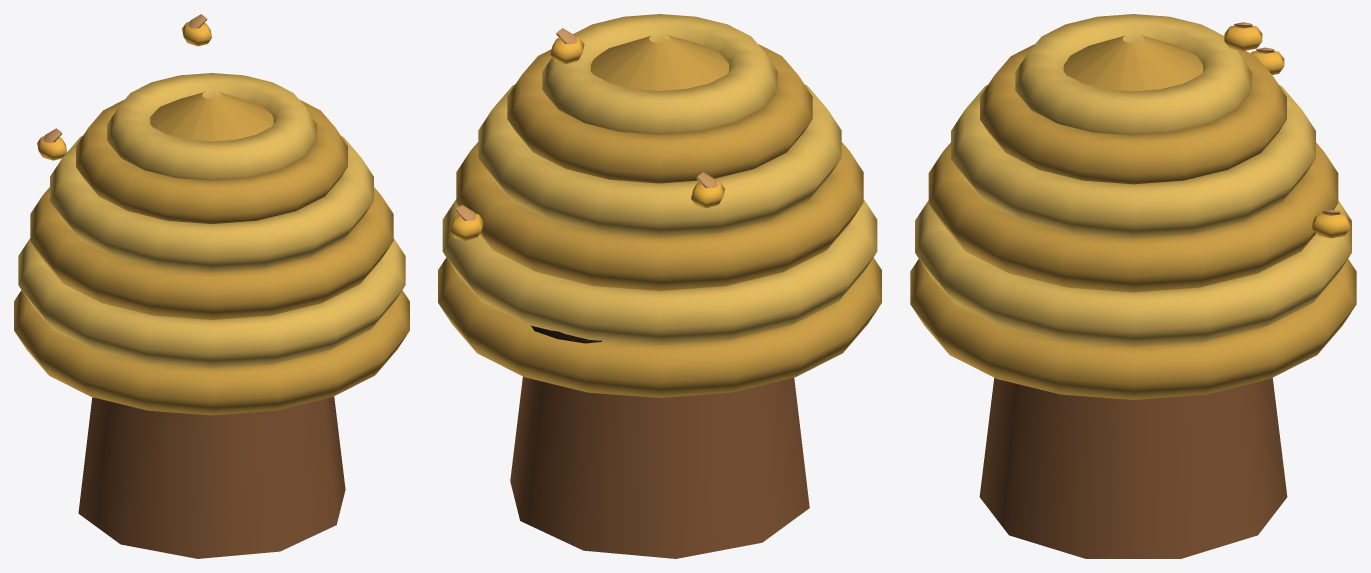
The model's file is Beehive.glb.
The picture shows the model from 3 angles, left to right: view 1: azimuth 30°, elevation 25°; view 2: azimuth 150°, elevation 25°; view 3: azimuth 270°, elevation 25°; orthographic projection. The views are drawn at different scales.
Visible parts, largest first — view 1: Body; view 2: Body; view 3: Body.
Part boxes in pixels (bbox=[...]): Body: bbox=[14, 14, 409, 558]; Body: bbox=[438, 14, 881, 558]; Body: bbox=[910, 14, 1356, 558].
Bounding box in the file's own units: 2.06 × 2.49 × 2.03.
1 material, 1 textured.
